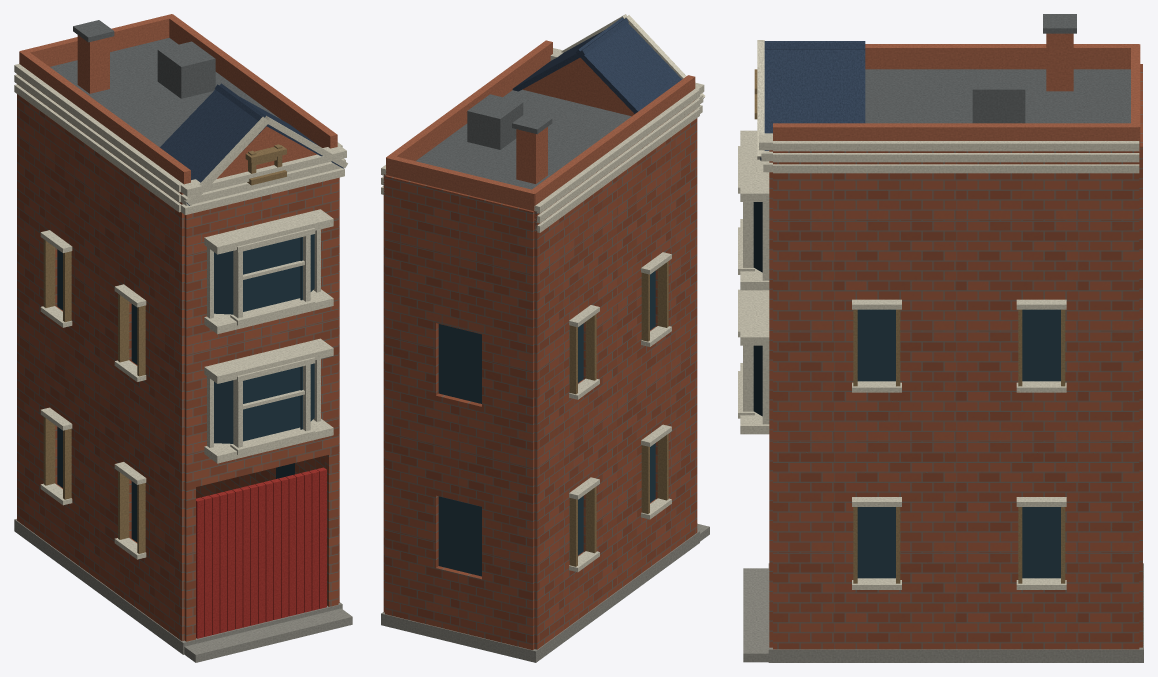
The model's file is VICT6B_lod2.glb.
3 views of the same model, side by side, from view 1: azimuth 30°, elevation 25°; view 2: azimuth 150°, elevation 25°; view 3: azimuth 270°, elevation 25° (orthographic). The views are drawn at different scales.
Parts seen in each view (by area): view 1: VICT6B_LOD2; view 2: VICT6B_LOD2; view 3: VICT6B_LOD2.
Boxes of the visible parts, x1,y1,x2,y2 form: VICT6B_LOD2: (14, 14, 352, 662); VICT6B_LOD2: (381, 14, 709, 662); VICT6B_LOD2: (738, 14, 1143, 662).
Bounding box in the file's own units: 3.71 × 10.46 × 6.65.
Materials: 10 (8 with a texture image).
